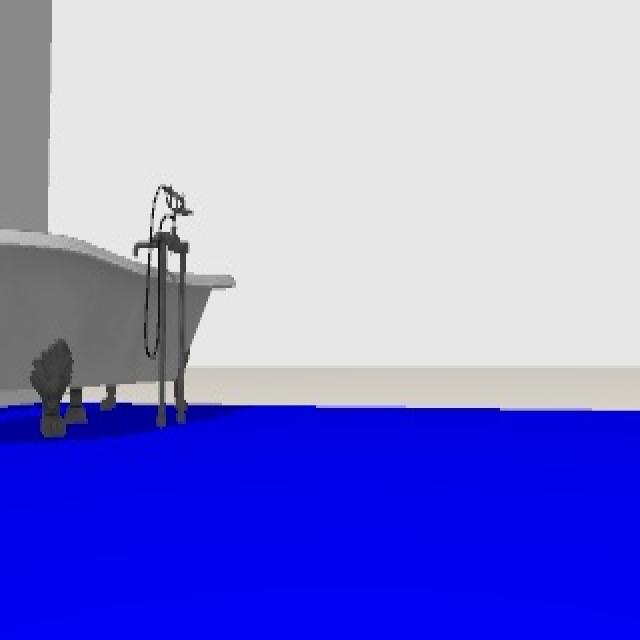bathtub: (3, 183, 238, 440)
